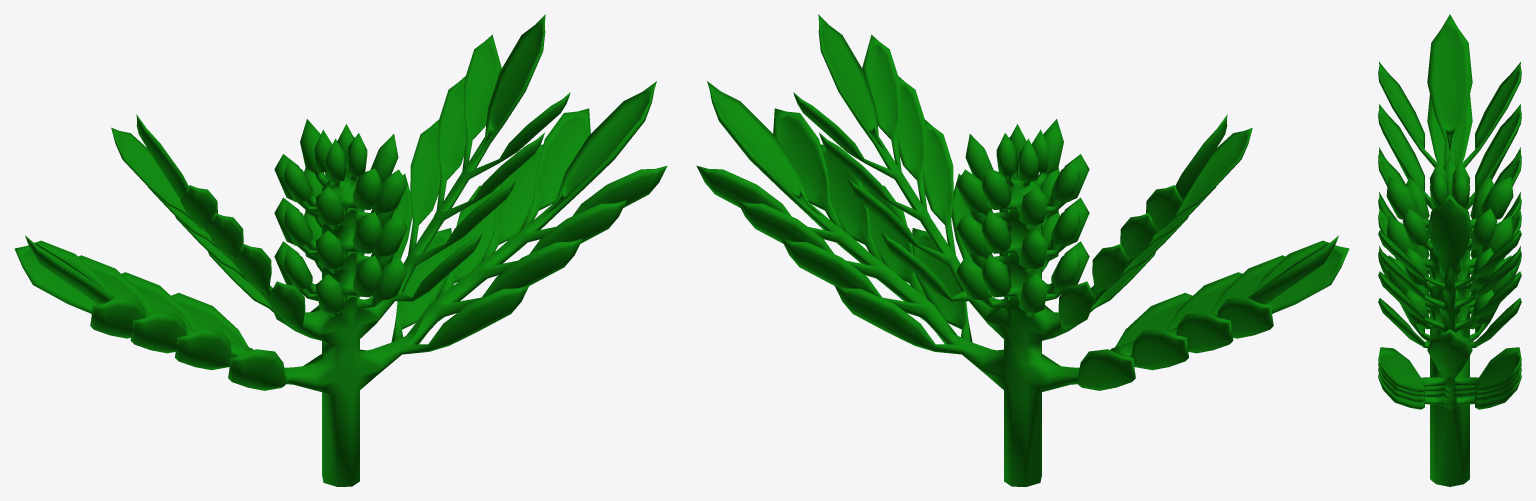
The model's file is Licorice Plant.obj.
3 views of the same model, side by side, from view 1: azimuth 30°, elevation 25°; view 2: azimuth 150°, elevation 25°; view 3: azimuth 270°, elevation 25° (orthographic). The views are drawn at different scales.
Parts seen in each view (by area): view 1: Licorice_Plant; view 2: Licorice_Plant; view 3: Licorice_Plant.
Part boxes in pixels (<box>): Licorice_Plant: <box>14,14,667,486</box>; Licorice_Plant: <box>696,14,1349,486</box>; Licorice_Plant: <box>1378,14,1521,486</box>.
Bounding box in the file's own units: 15.06 × 9.44 × 3.28.
